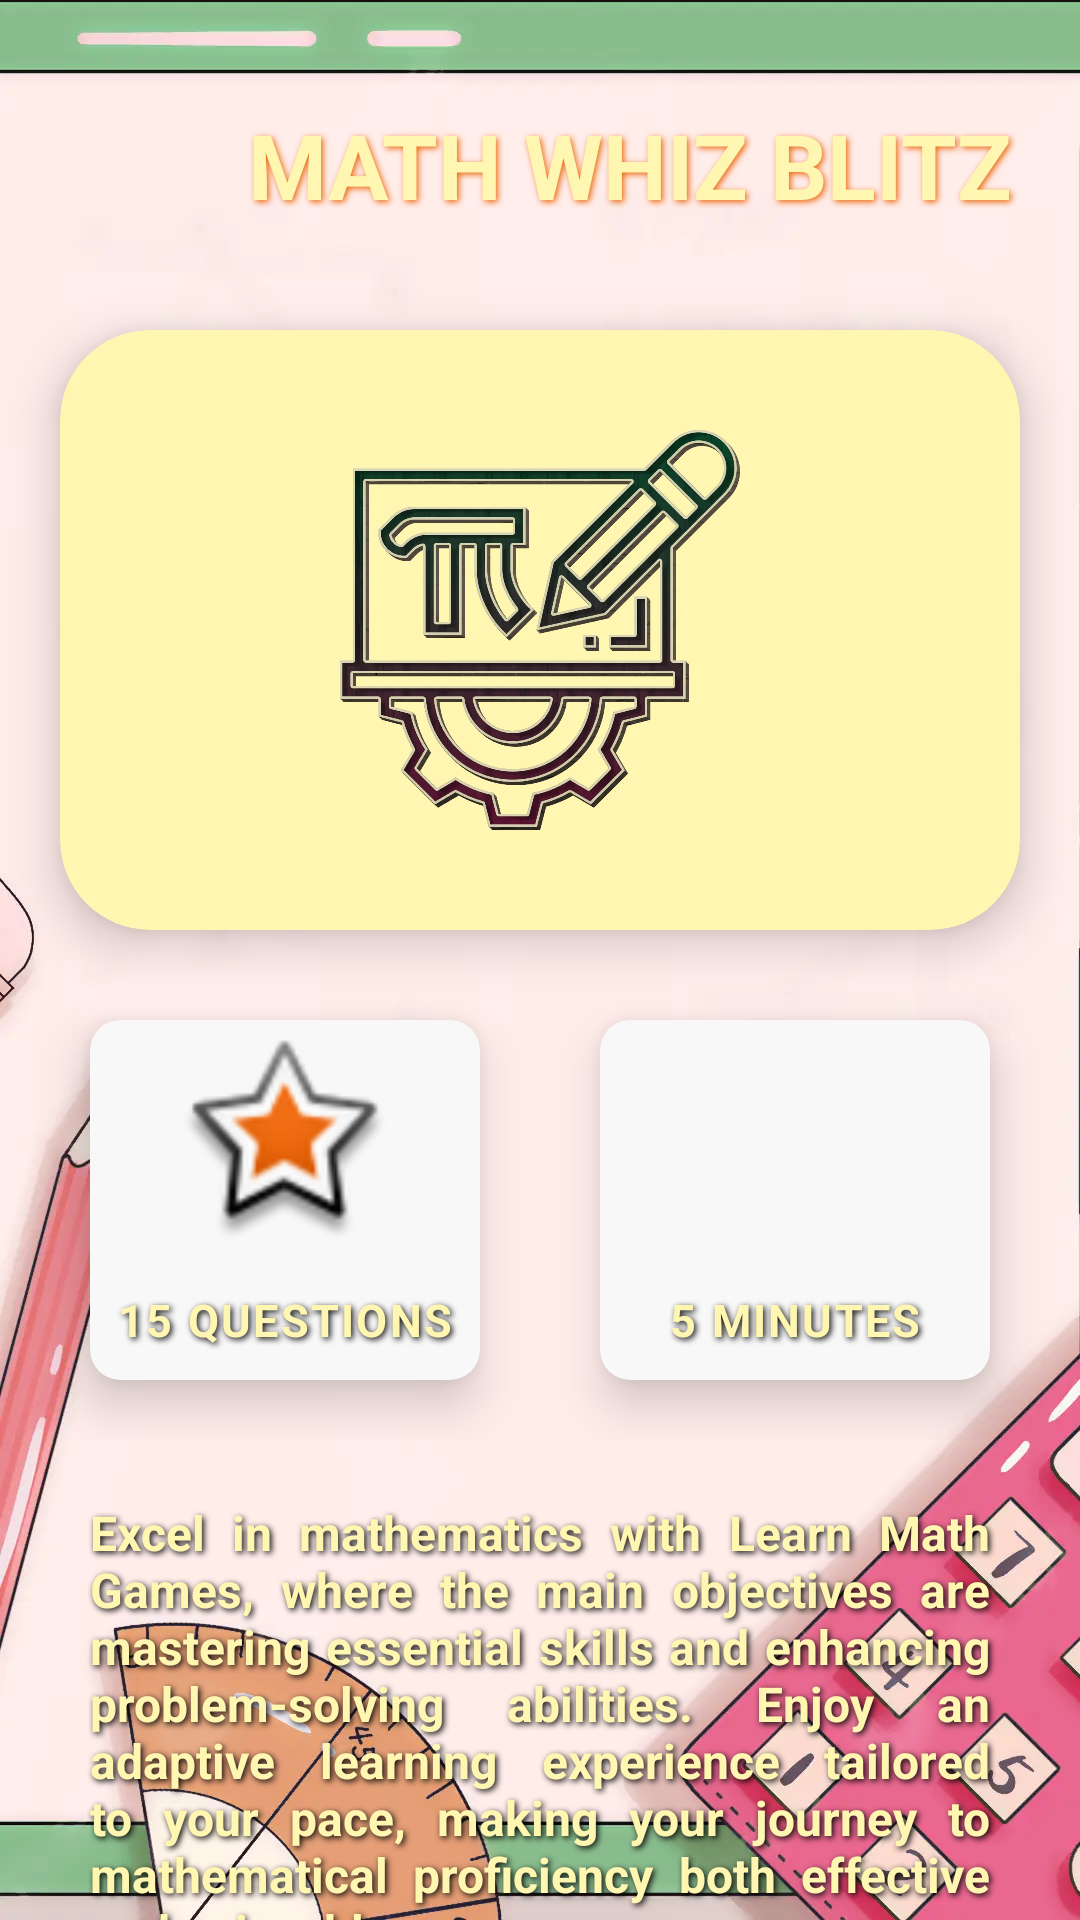

Point at icon controls on the screen. Image size 1080 × 1920, points as (x=x, y=y).
star on: (x=285, y=1136)
